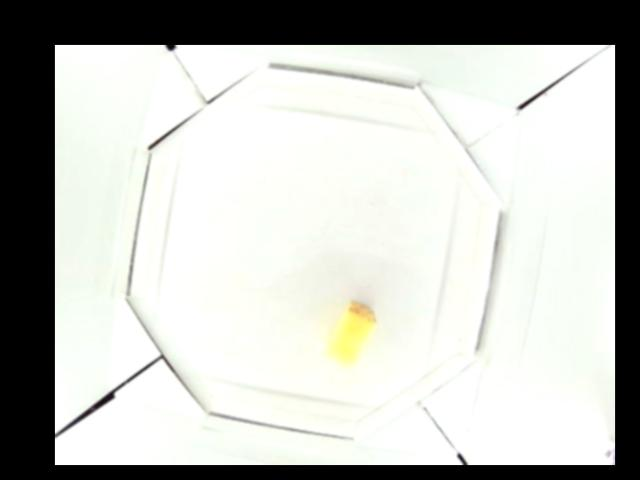Potato: (325, 300, 375, 367)
